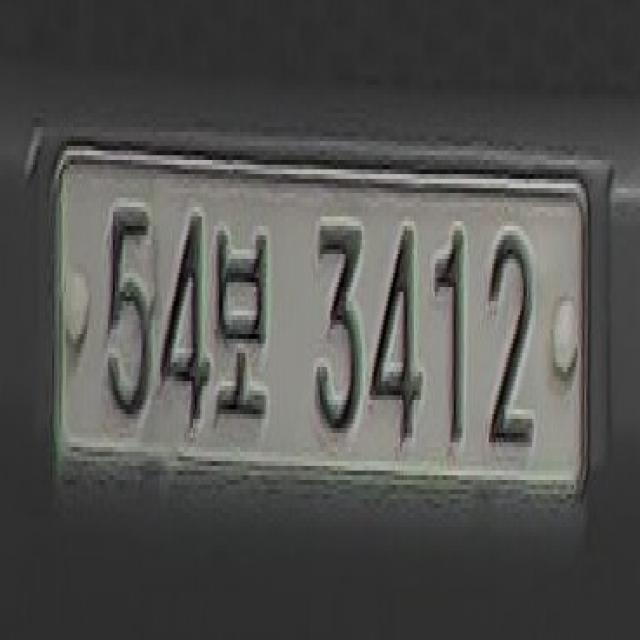1: (419, 193, 471, 471)
2: (483, 202, 541, 494)
3: (304, 221, 370, 447)
4: (369, 198, 426, 461), (151, 202, 214, 438)
5: (92, 179, 153, 447)
bo: (207, 188, 278, 424)
license_plate: (44, 146, 605, 546)
